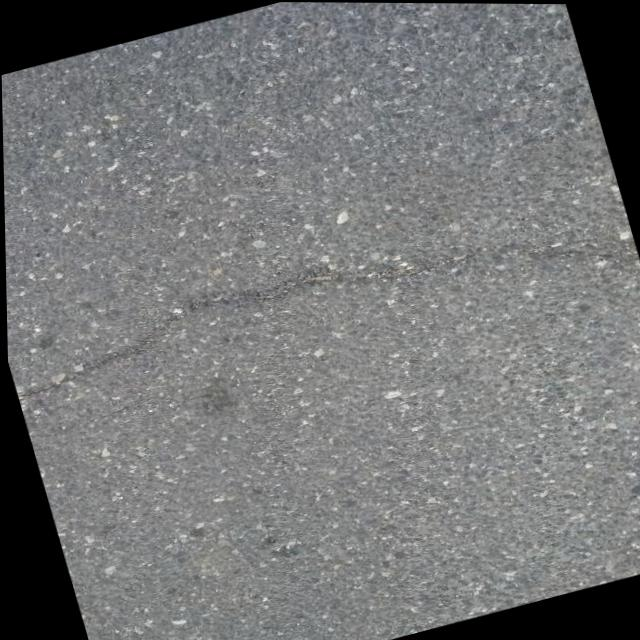Crack: (3, 164, 640, 434)
